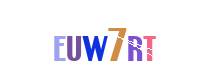7: (65, 0, 145, 80)
E: (36, 0, 116, 80)
R: (77, 0, 157, 80)
T: (106, 0, 186, 80)
U: (54, 0, 134, 80)
W: (62, 0, 142, 80)
